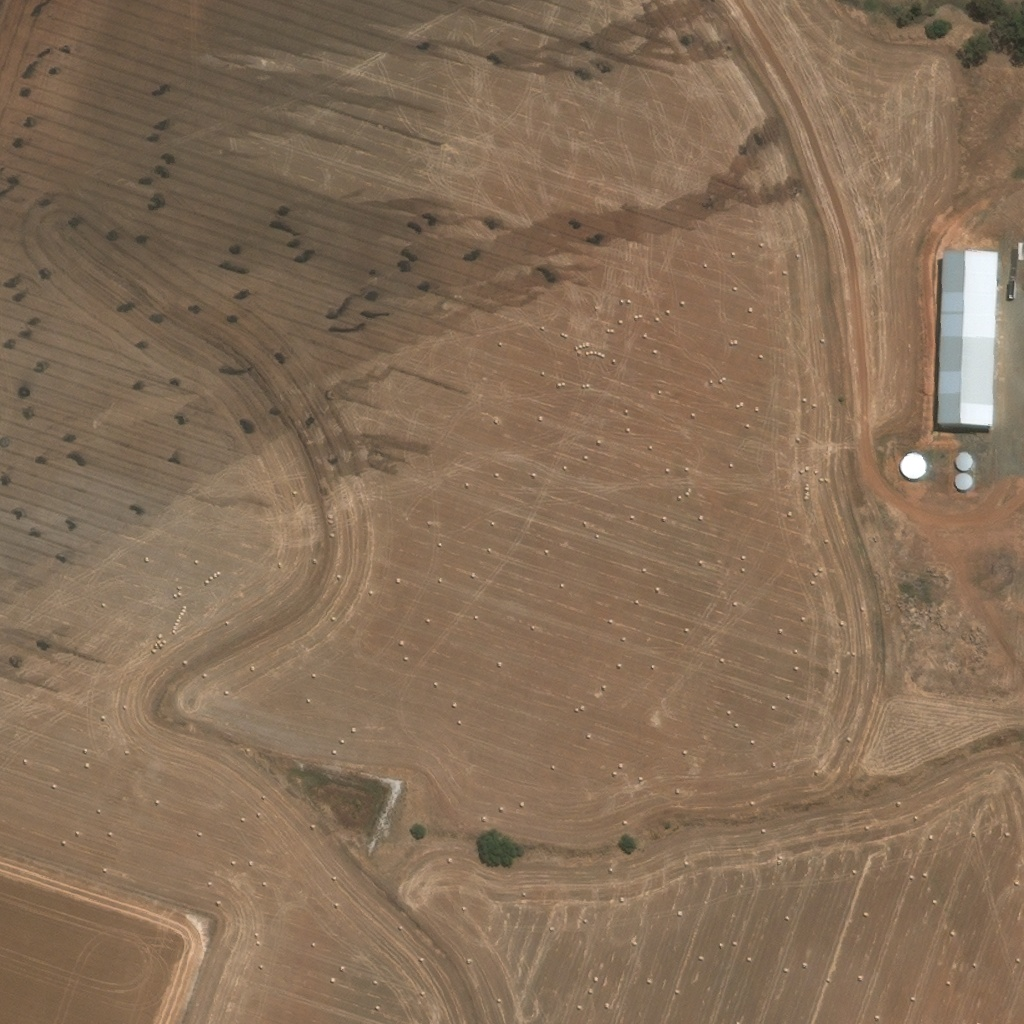0 no-damage: (937, 242, 1001, 421), (899, 450, 927, 477), (953, 470, 972, 491), (954, 450, 972, 470)
